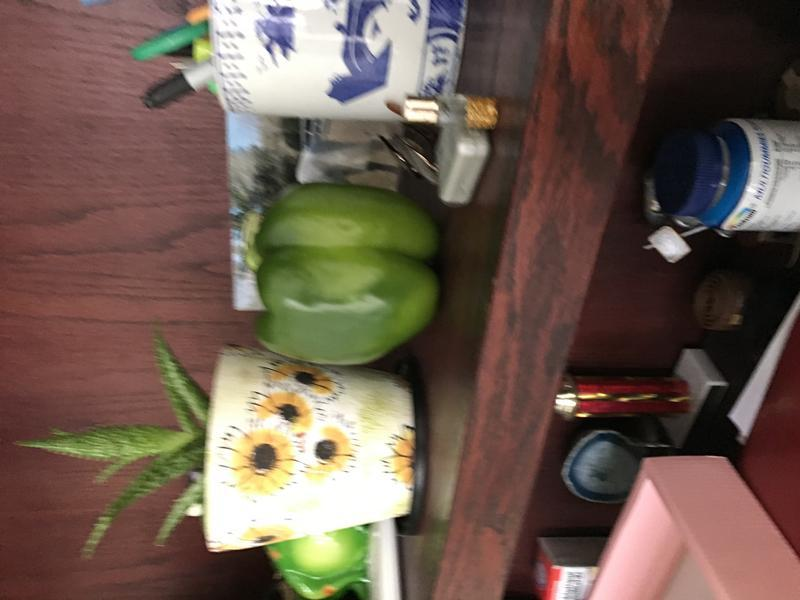green_pepper: (231, 181, 454, 373)
